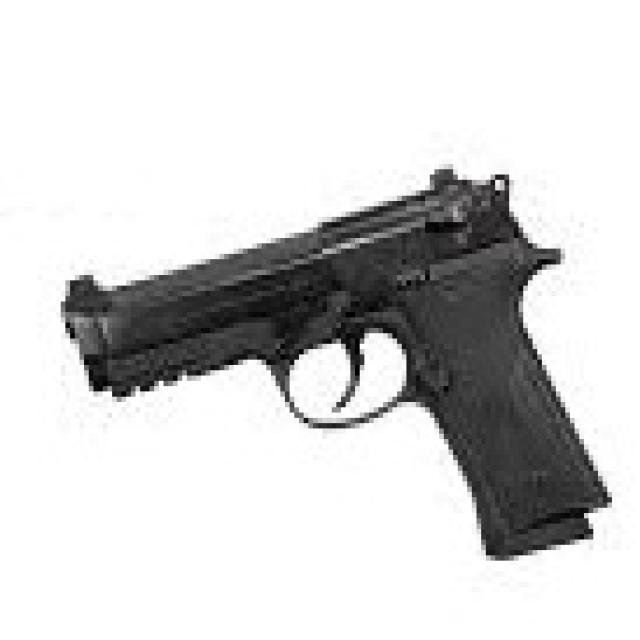pistol: (50, 160, 619, 572)
